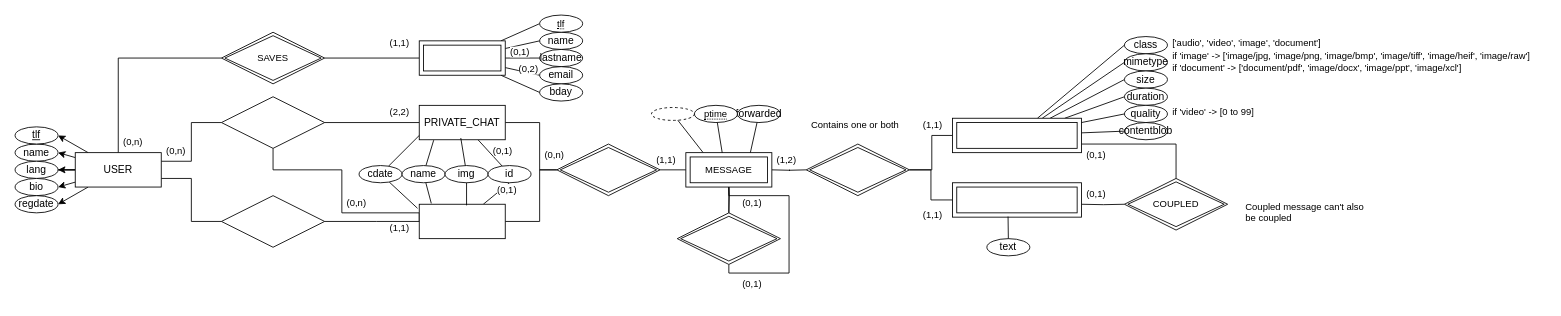
Some shapes in this 1561 by 316 pixel diagram are drawn without their labels. The centre of each missing label's shape, as x and y in pixels:
ADMIN: point 273,221
CONTACT: point 461,57
CONTAINS: point 857,169
GROUP_CHAT: point 461,221
MEMBER: point 273,122
MULTIMEDIA_MESSAGE: point 1016,135
nmembers: point 672,113
PUBLISH: point 608,169
REPLIES: point 728,238
TEXT_MESSAGE: point 1016,199
